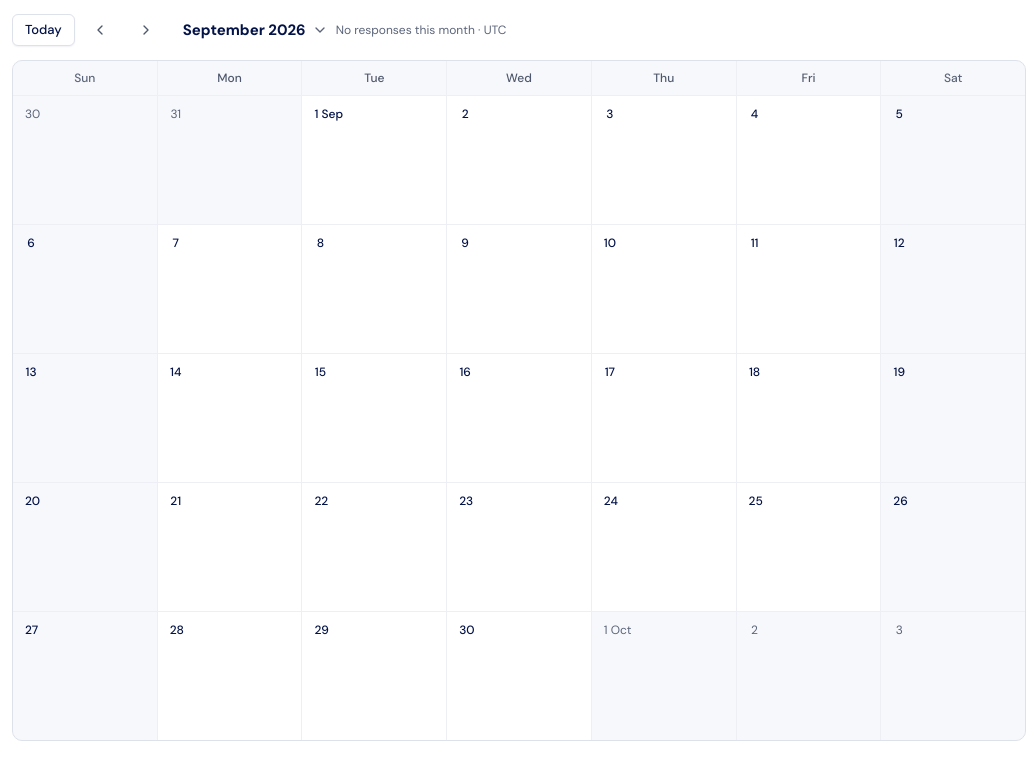
Test case: moving around › previous and next change the month and ask for its days
The width and height of the screenshot is (1036, 780).
Check: the text "No responses this month" is shown, box [336, 22, 475, 38]
Click the button named "Next month". click: (146, 30)
box: [125, 14, 167, 46]
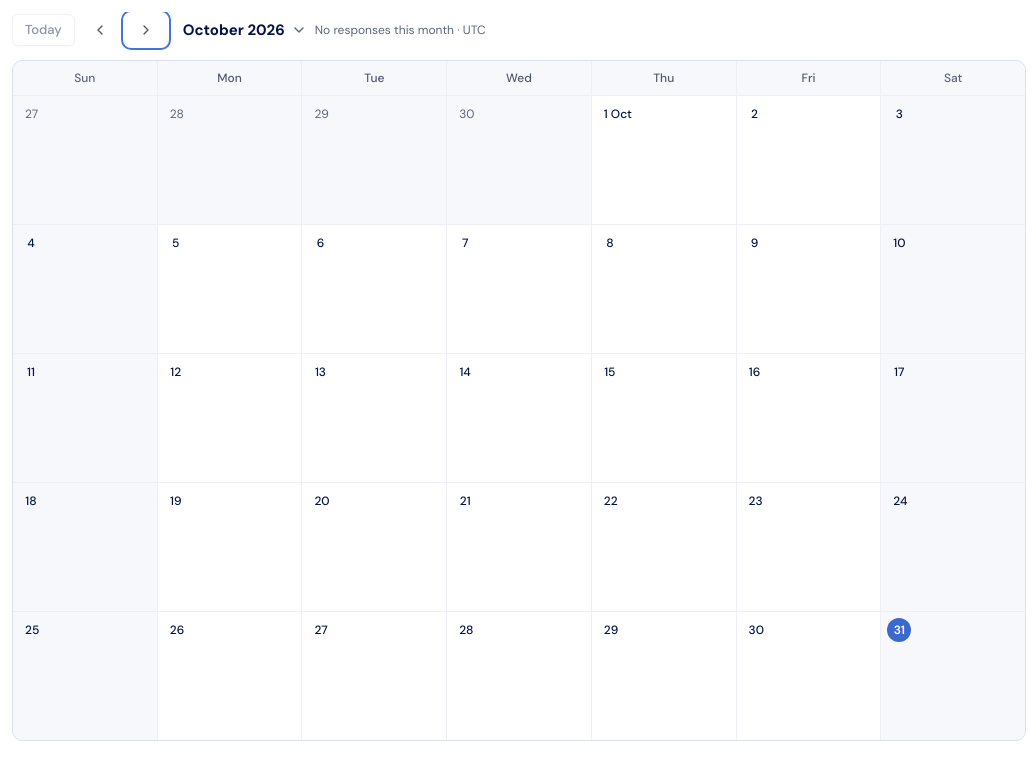
Check: the heading "October 2026" is shown, box [183, 17, 307, 43]
Click the button named "Previous month". click: (100, 30)
box: [79, 14, 121, 46]
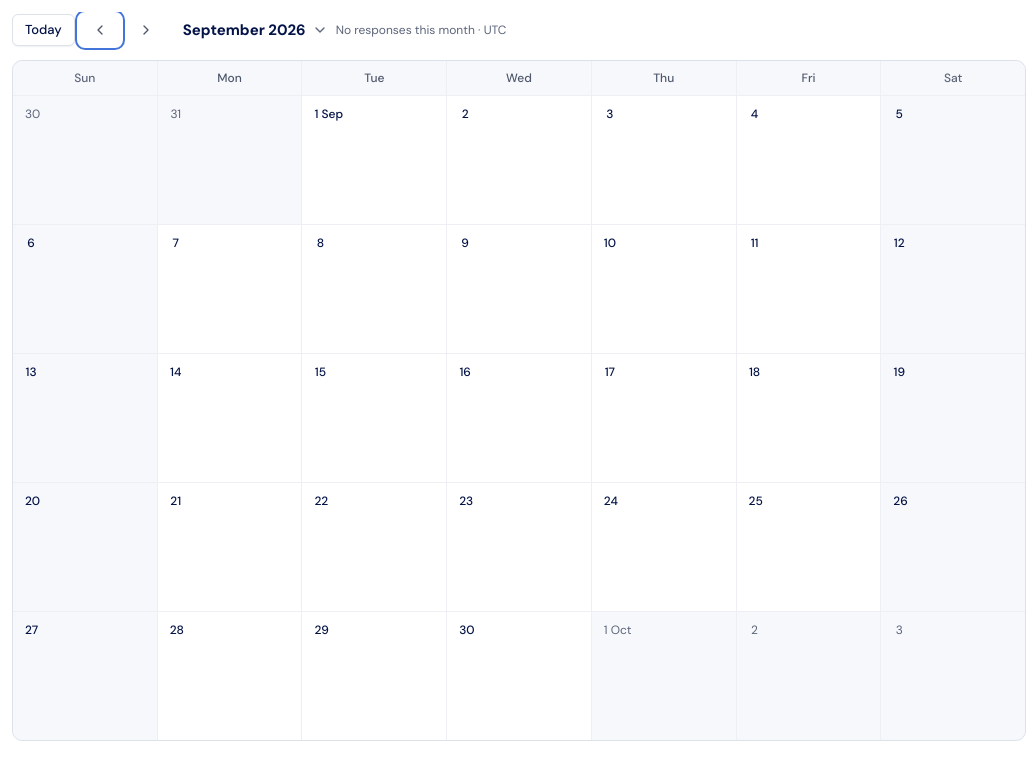
Click the button named "Previous month". click: (100, 30)
box: [79, 14, 121, 46]
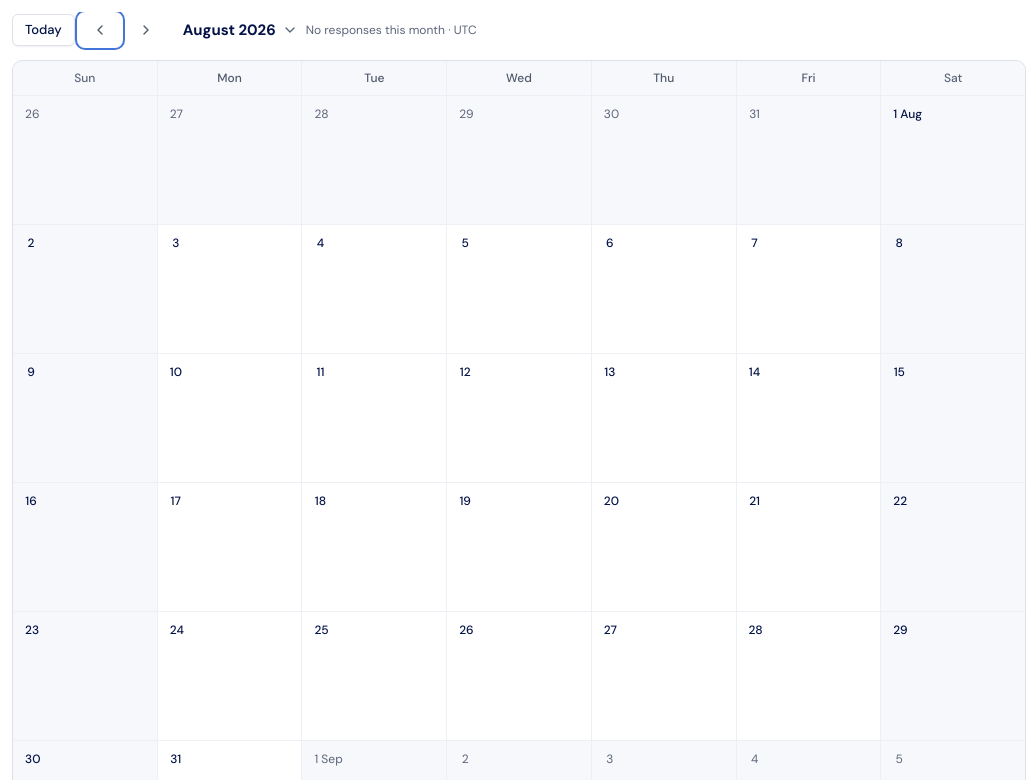
Check: the heading "August 2026" is shown, box [183, 17, 298, 43]
